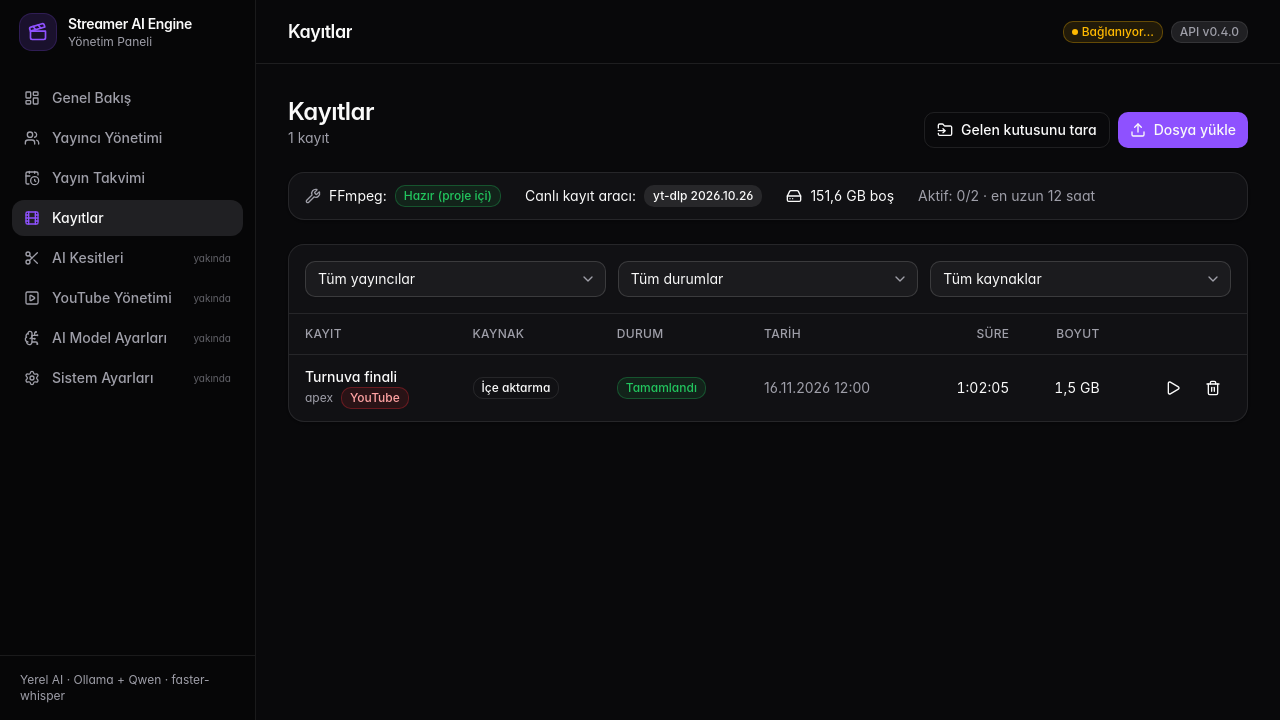
Scenario: RecordingsPage › deletes after confirmation
The width and height of the screenshot is (1280, 720).
Later steps or results of the test are not shown.
Click the button named "sil". click: point(1213, 388)
box: [1195,370,1231,406]
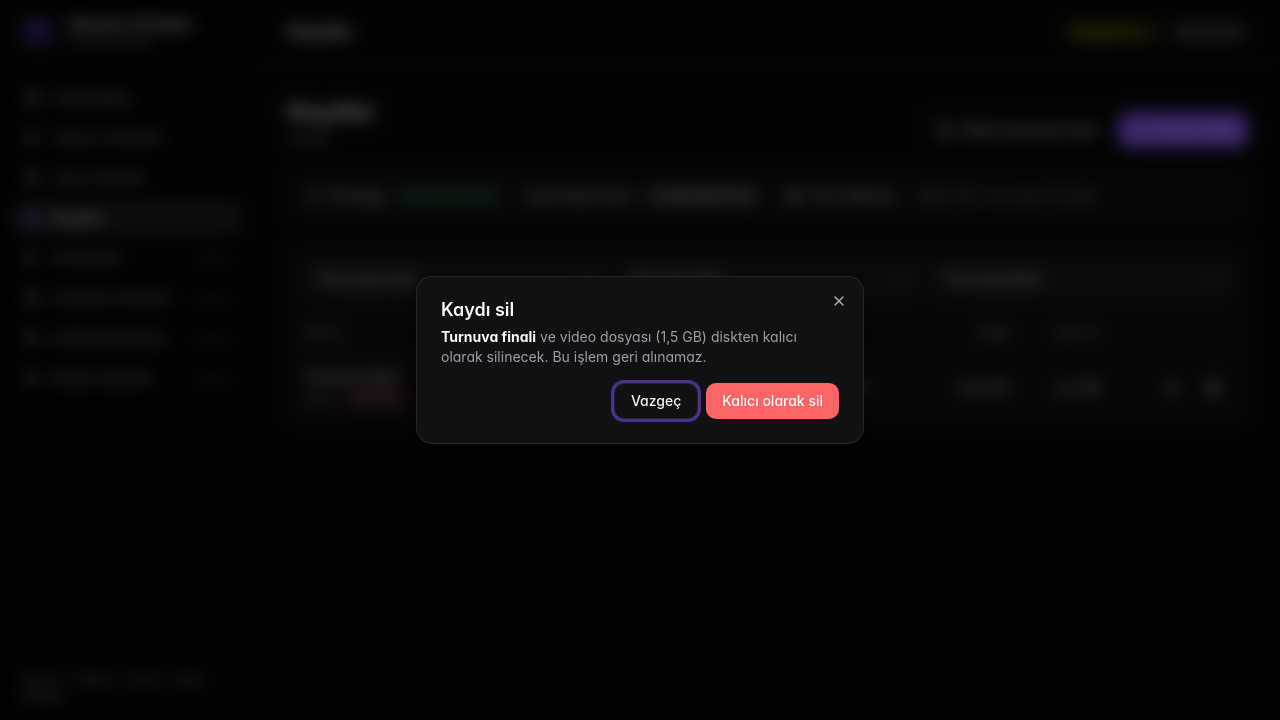
Now the text "1,5 GB" is shown, box [660,328,702,345]
